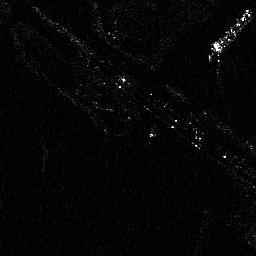ship: (205, 8, 255, 60)
